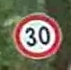limite 30: (11, 11, 62, 60)
